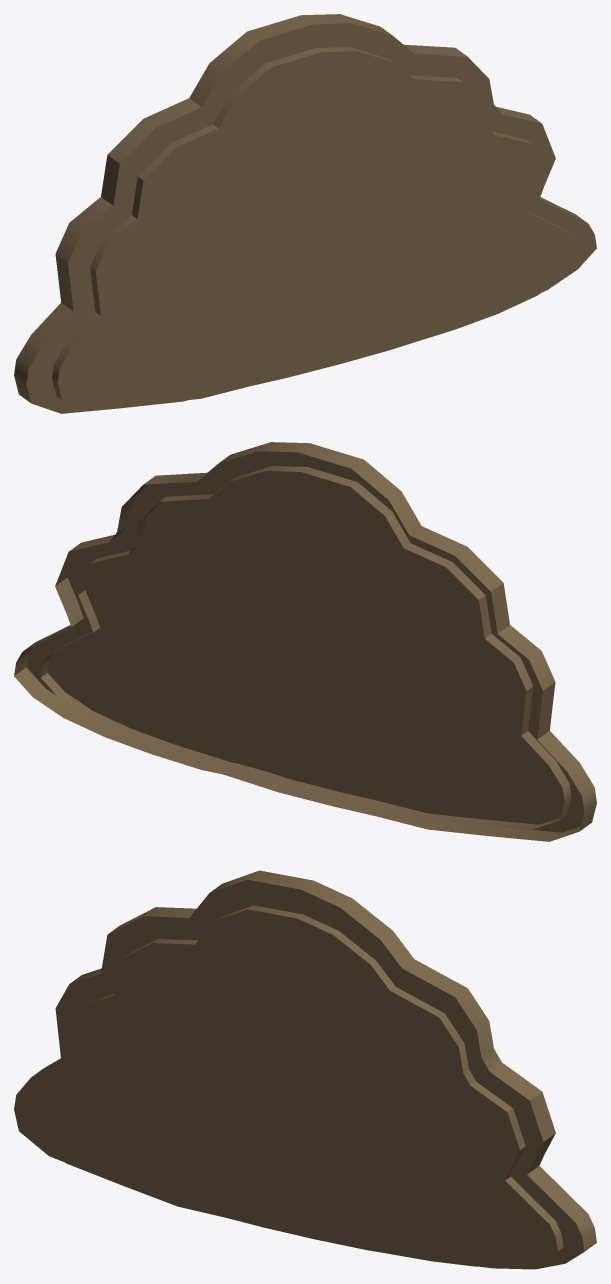
Rendered from Bush.fbx.
3 views of the same model, one above another, from view 1: azimuth 30°, elevation 25°; view 2: azimuth 150°, elevation 25°; view 3: azimuth 330°, elevation 25° (orthographic).
Visible parts, largest first — view 1: glaçage, biscuit; view 2: biscuit, glaçage; view 3: glaçage, biscuit.
Part boxes in pixels (box(x1,y1,x2,y2)): glaçage: box(52, 47, 581, 409); biscuit: box(14, 14, 596, 413); biscuit: box(14, 442, 596, 841); glaçage: box(40, 466, 571, 829); glaçage: box(34, 905, 563, 1267); biscuit: box(14, 870, 596, 1269).
Size of the model in its own units: 4.23 by 2.45 by 0.2331.
